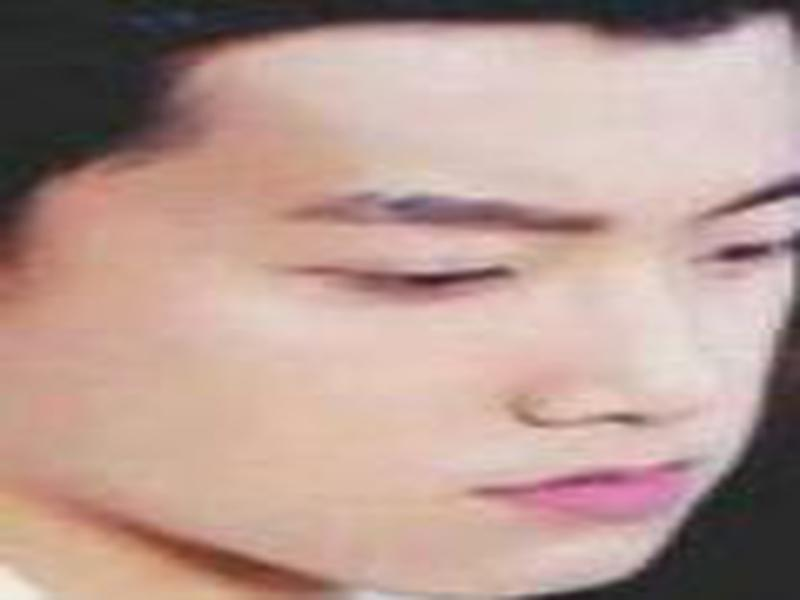without_mask: (55, 27, 800, 600)
